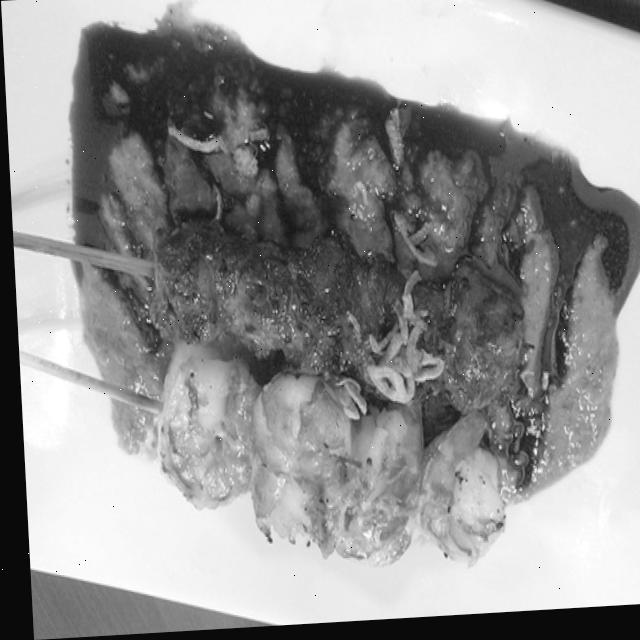牛肉菜式: (29, 0, 640, 639)
